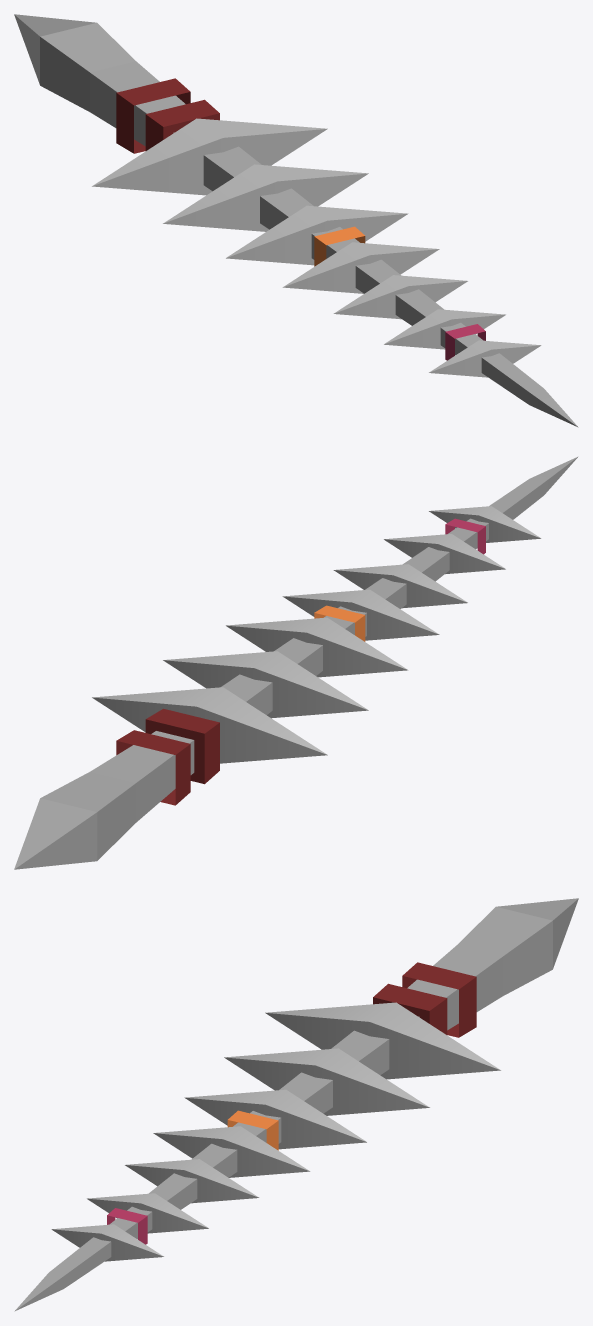
Rendered from Sword 08.FBX.
The picture shows the model from 3 angles, top to bottom: view 1: azimuth 30°, elevation 25°; view 2: azimuth 150°, elevation 25°; view 3: azimuth 330°, elevation 25°; orthographic projection.
Visible parts, largest first — view 1: Sword 08; view 2: Sword 08; view 3: Sword 08.
Part boxes in pixels (<box>): Sword 08: <box>14,14,578,427</box>; Sword 08: <box>14,456,578,869</box>; Sword 08: <box>14,898,578,1311</box>.
Size of the model in its own units: 21.25 by 5.05 by 87.86.
